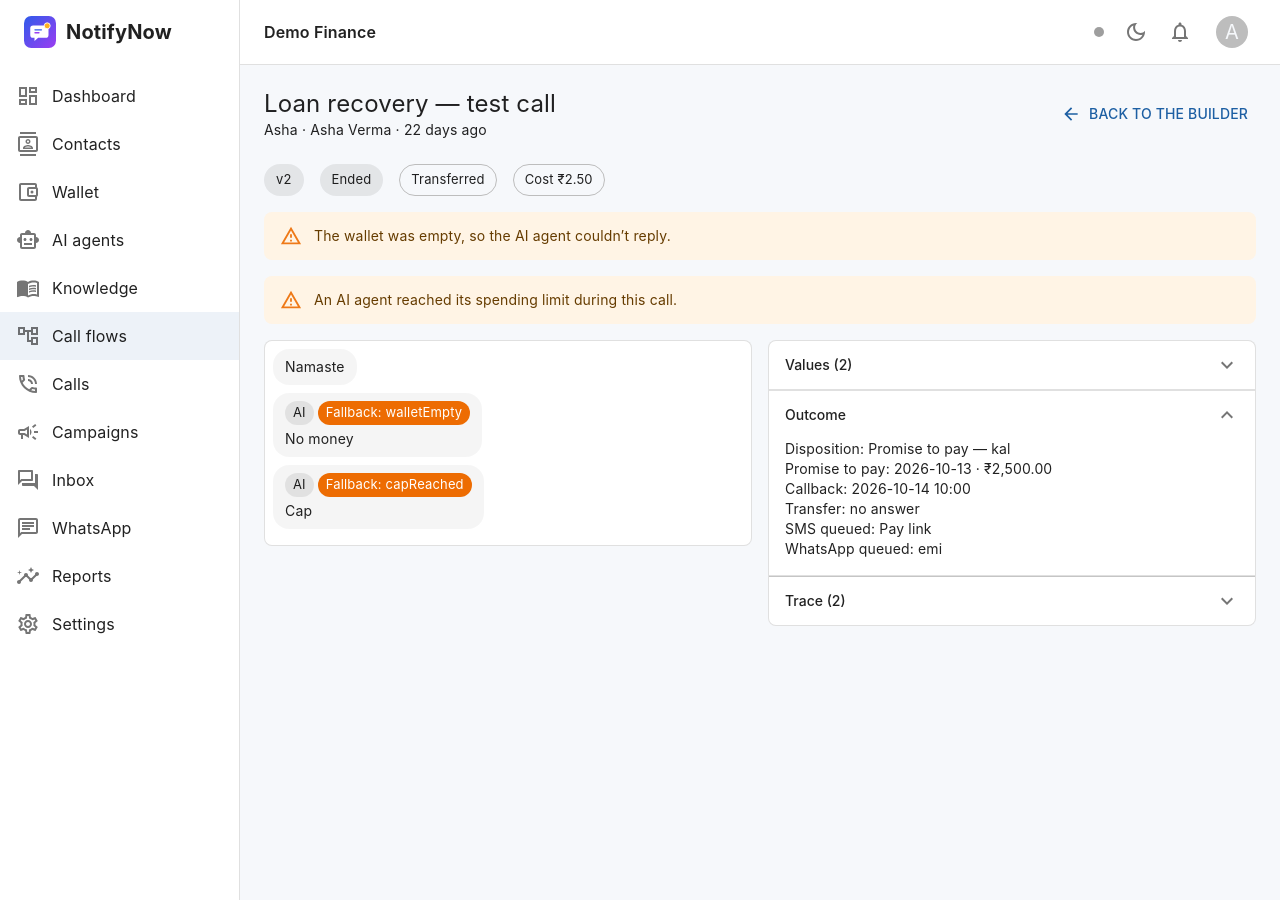
Test: FlowSimulationPage › shows transcript, values, outcome, trace and banners
This screenshot has width=1280, height=900.
Expected: the text "Namaste" is shown, x1=285 y1=357 x2=345 y2=377
Expected: the heading "Loan recovery — test call" is shown, x1=264 y1=88 x2=556 y2=120
Click the button "Values (2)". click: (819, 365)
box: x1=769 y1=341 x2=1255 y2=389
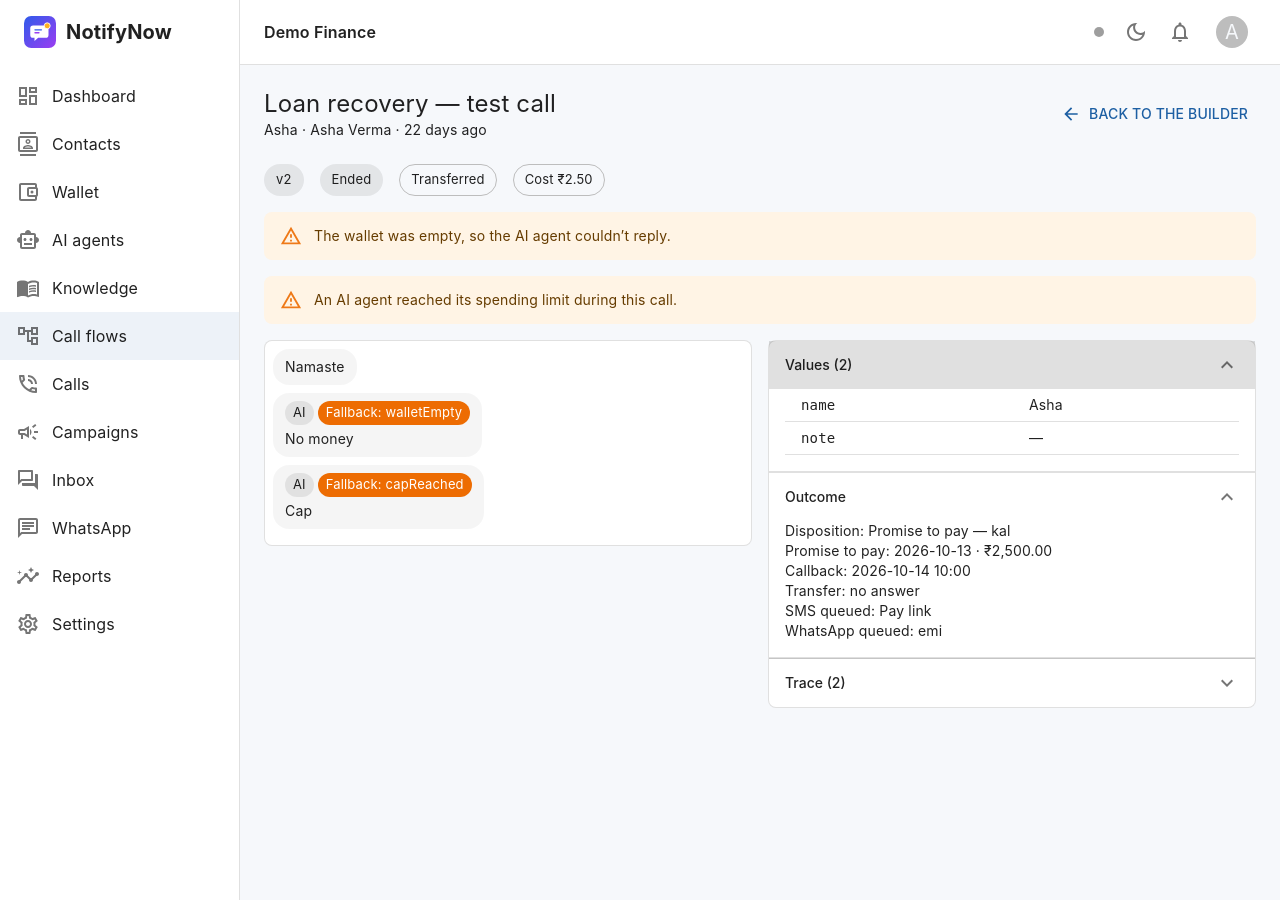
Result: the text "—" is shown at x1=1013 y1=422 x2=1239 y2=455
Click the button "Trace (2)". click: (815, 683)
box: x1=769 y1=659 x2=1255 y2=707
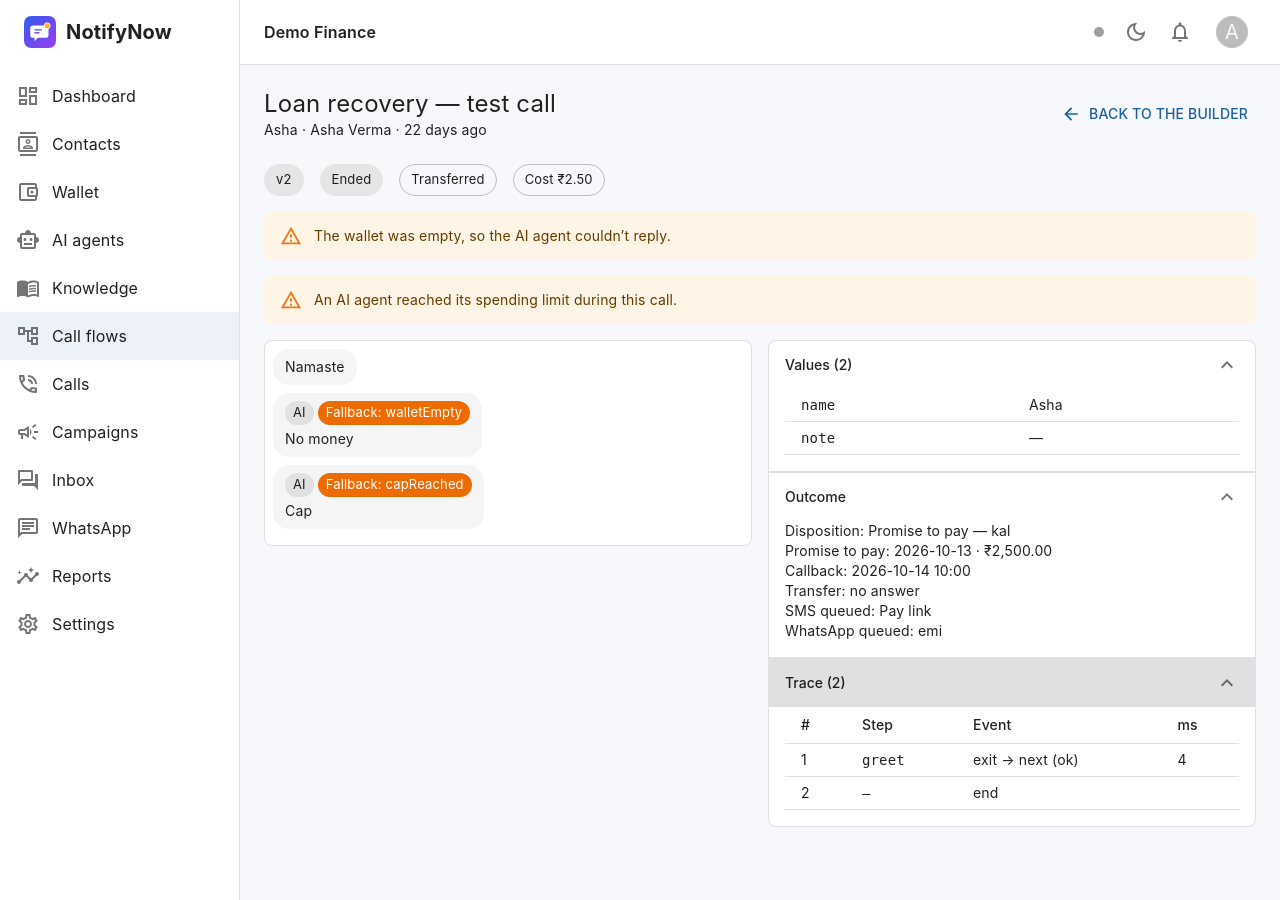
Result: the text "exit → next (ok)" is shown at x1=957 y1=744 x2=1161 y2=777
